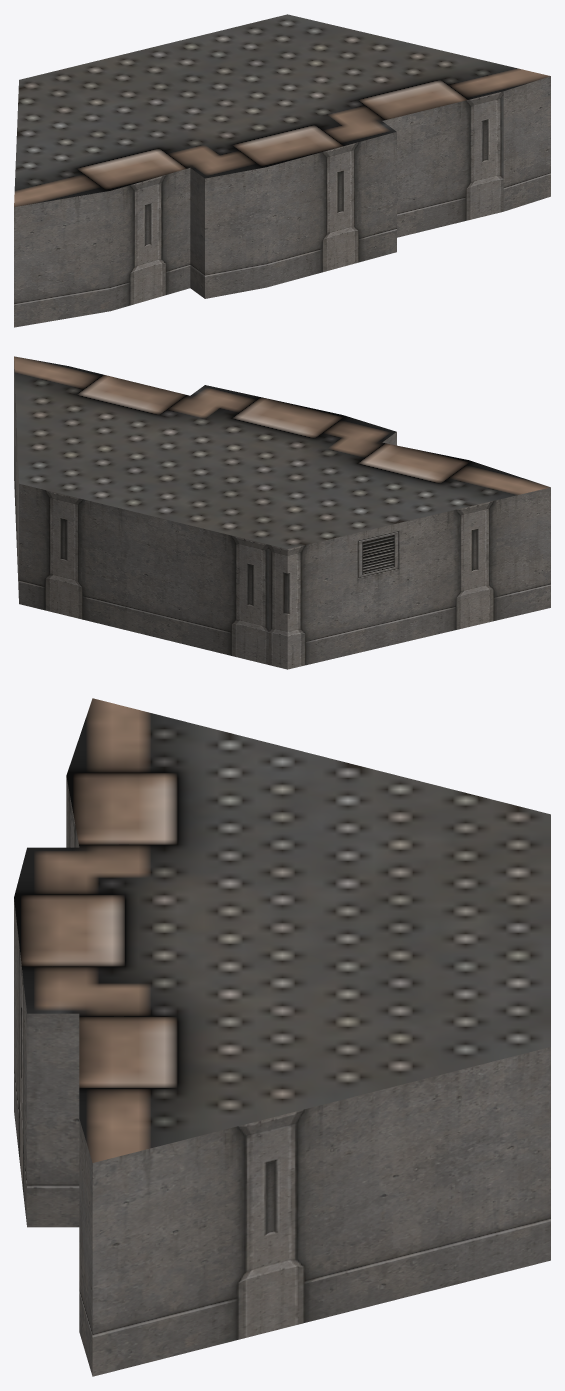
The model's file is building_hard_a_64.glb.
3 views of the same model, one above another, from view 1: azimuth 30°, elevation 25°; view 2: azimuth 150°, elevation 25°; view 3: azimuth 270°, elevation 25° (orthographic). The views are drawn at different scales.
Visible parts, largest first — view 1: buildings/saxarba/building_hard/building_hard_a_64; view 2: buildings/saxarba/building_hard/building_hard_a_64; view 3: buildings/saxarba/building_hard/building_hard_a_64.
Part boxes in pixels (left/top/right/bottom): buildings/saxarba/building_hard/building_hard_a_64: left=14, top=14, right=550, bottom=327; buildings/saxarba/building_hard/building_hard_a_64: left=14, top=356, right=550, bottom=669; buildings/saxarba/building_hard/building_hard_a_64: left=14, top=698, right=550, bottom=1376.
Bounding box in the file's own units: 84 × 18 × 41.
